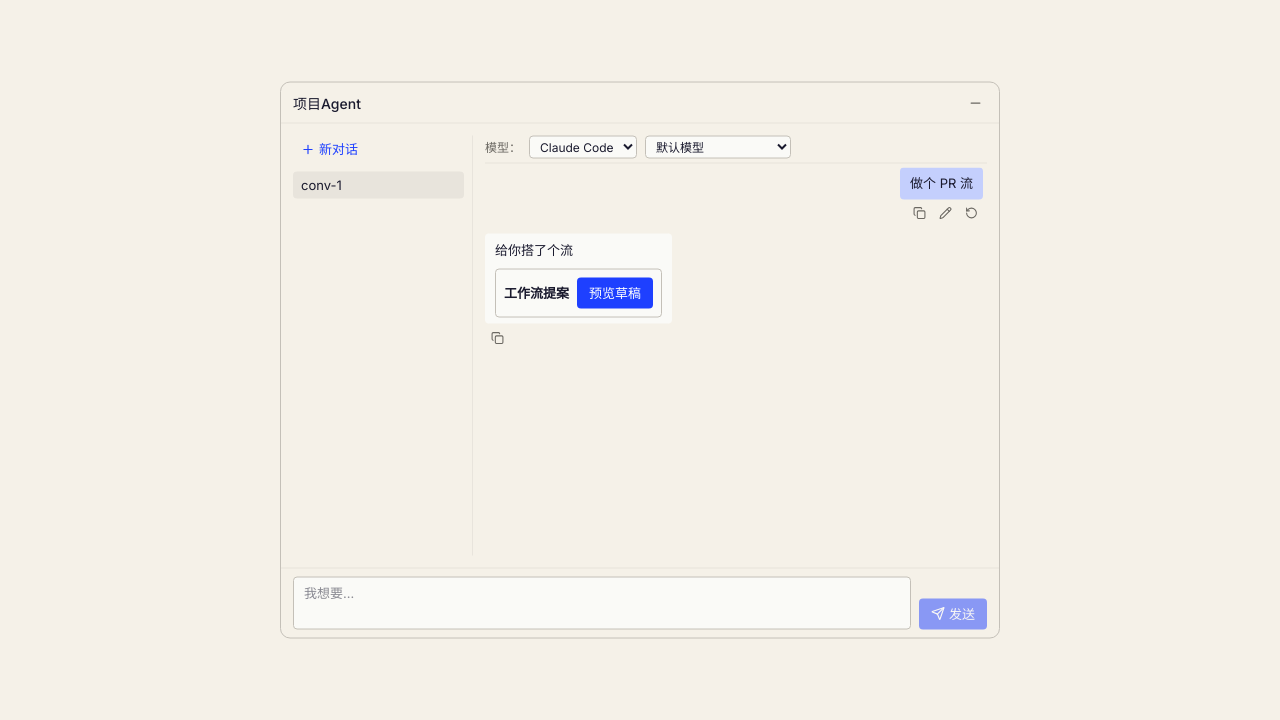
Test: 工作流提案审阅 › 已入库后再次预览：从库读（含编辑）的版本，而非重放原始草稿
// 首次预览（草稿）：用 initialDef 种子、不读库 → 显原始草稿名，getWorkflow 未被调
Click the button "预览草稿" at (615, 293), box [577, 277, 653, 309]
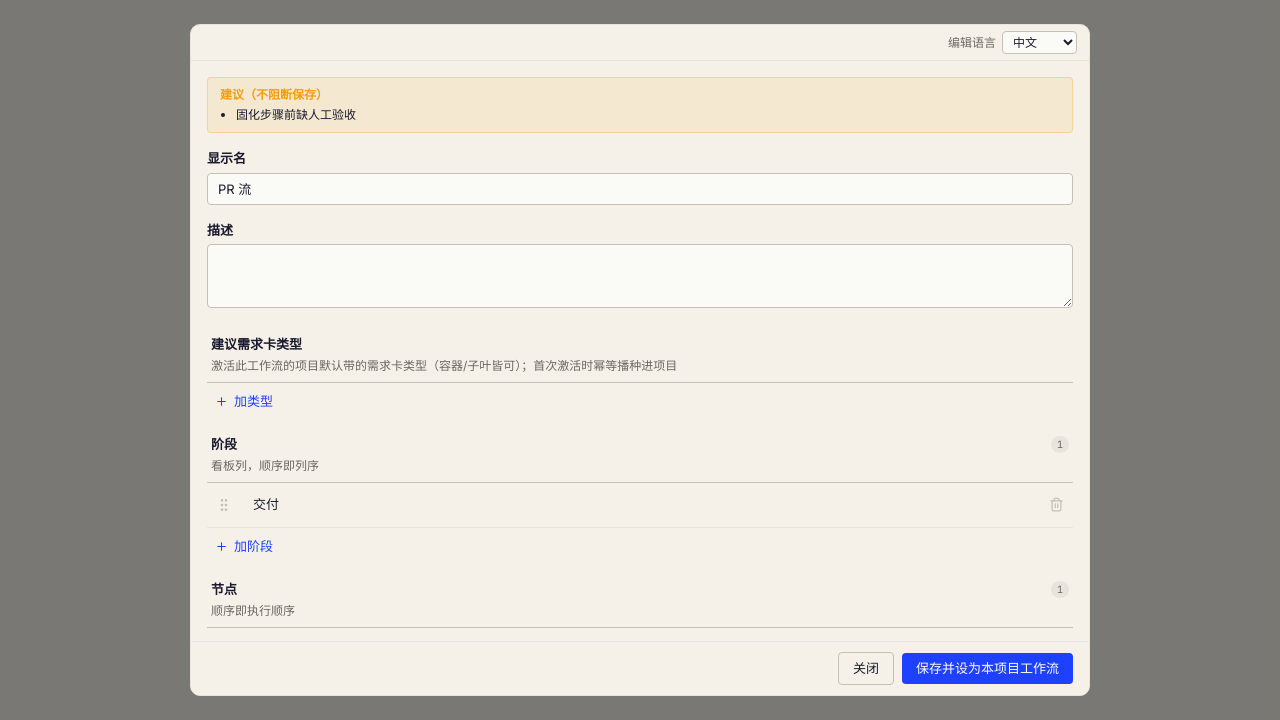
Expected: the field showing "PR 流" is shown, [207, 172, 1073, 204]
//  保存 → 关闭
Click the button "保存并设为本项目工作流" at (988, 668), box [902, 652, 1073, 684]
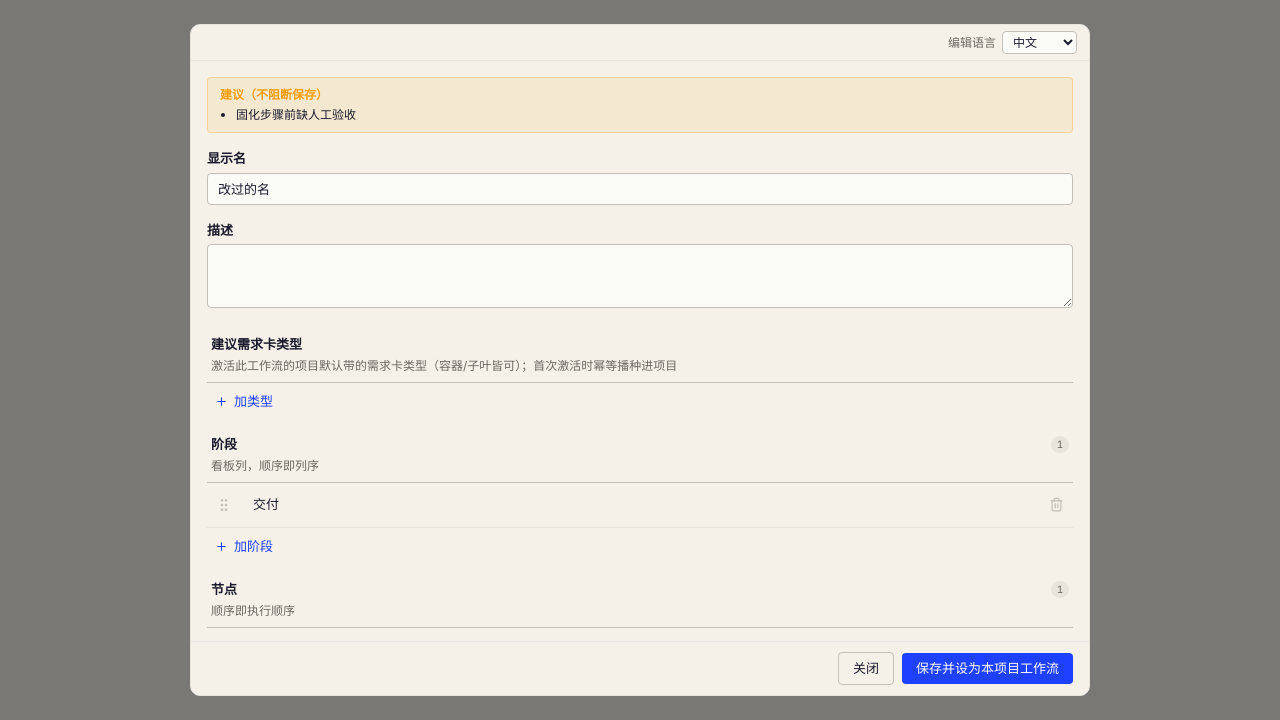
Expected: the field showing "改过的名" is shown, [207, 172, 1073, 204]
